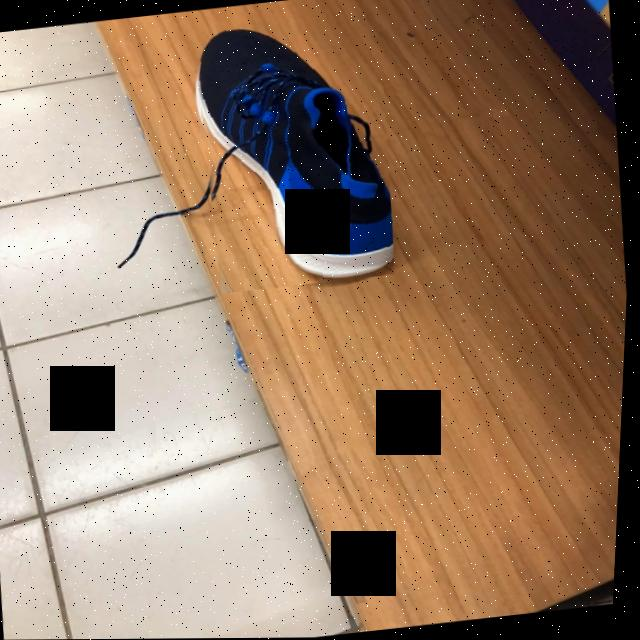shoe: (198, 29, 396, 282)
